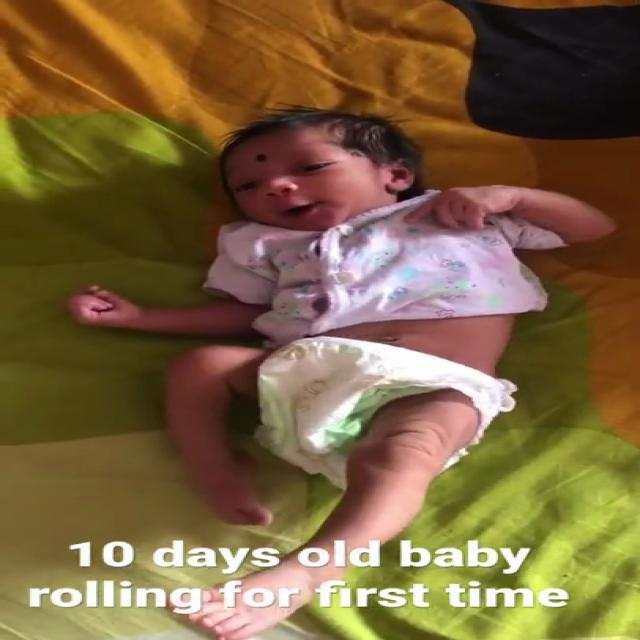baby: (56, 104, 616, 640)
